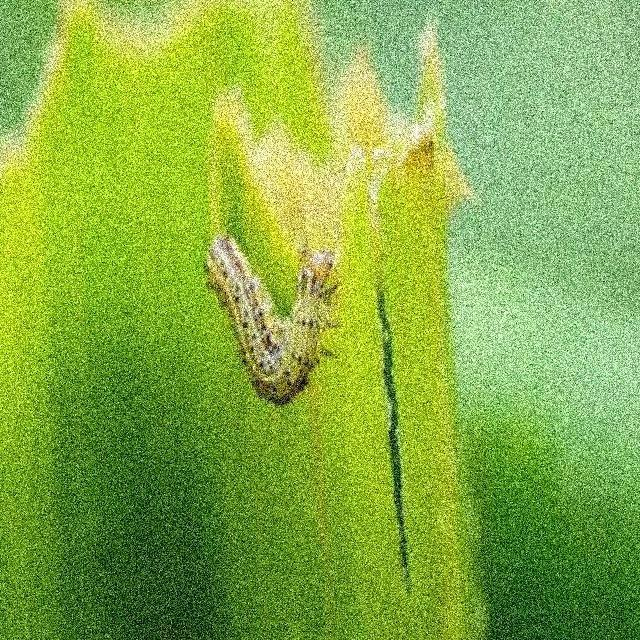gusano_cogollero: (199, 224, 342, 412)
